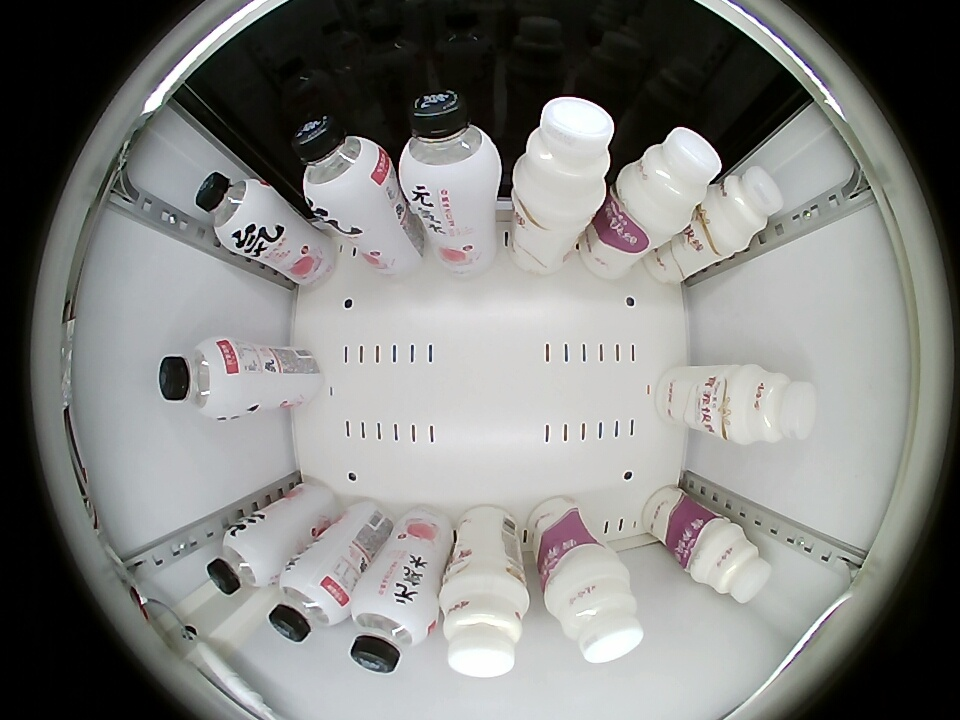yingyangkuaixian: (511, 98, 614, 222), (614, 127, 721, 234), (544, 558, 644, 664), (440, 573, 530, 677), (725, 364, 818, 445), (702, 166, 784, 253), (688, 522, 772, 603)
yuanqishui: (398, 90, 501, 205), (293, 115, 393, 219), (349, 578, 438, 674), (158, 337, 248, 420), (268, 560, 350, 643), (194, 172, 276, 251), (206, 523, 280, 596)
